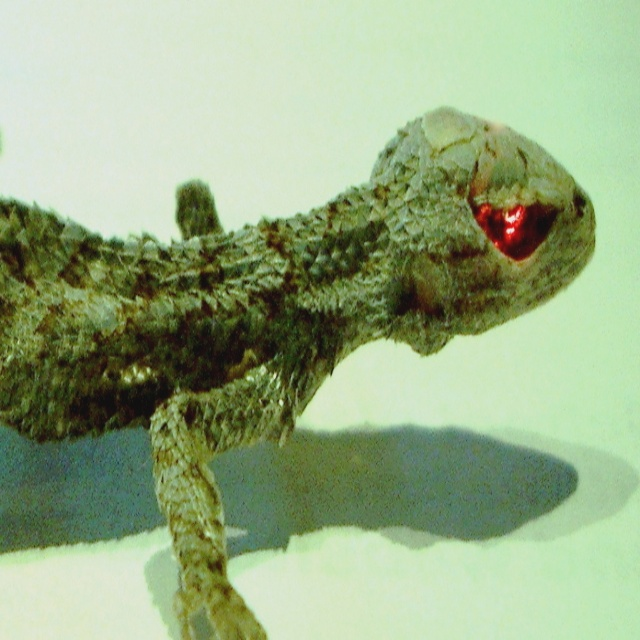Lizard: (24, 136, 592, 593)
